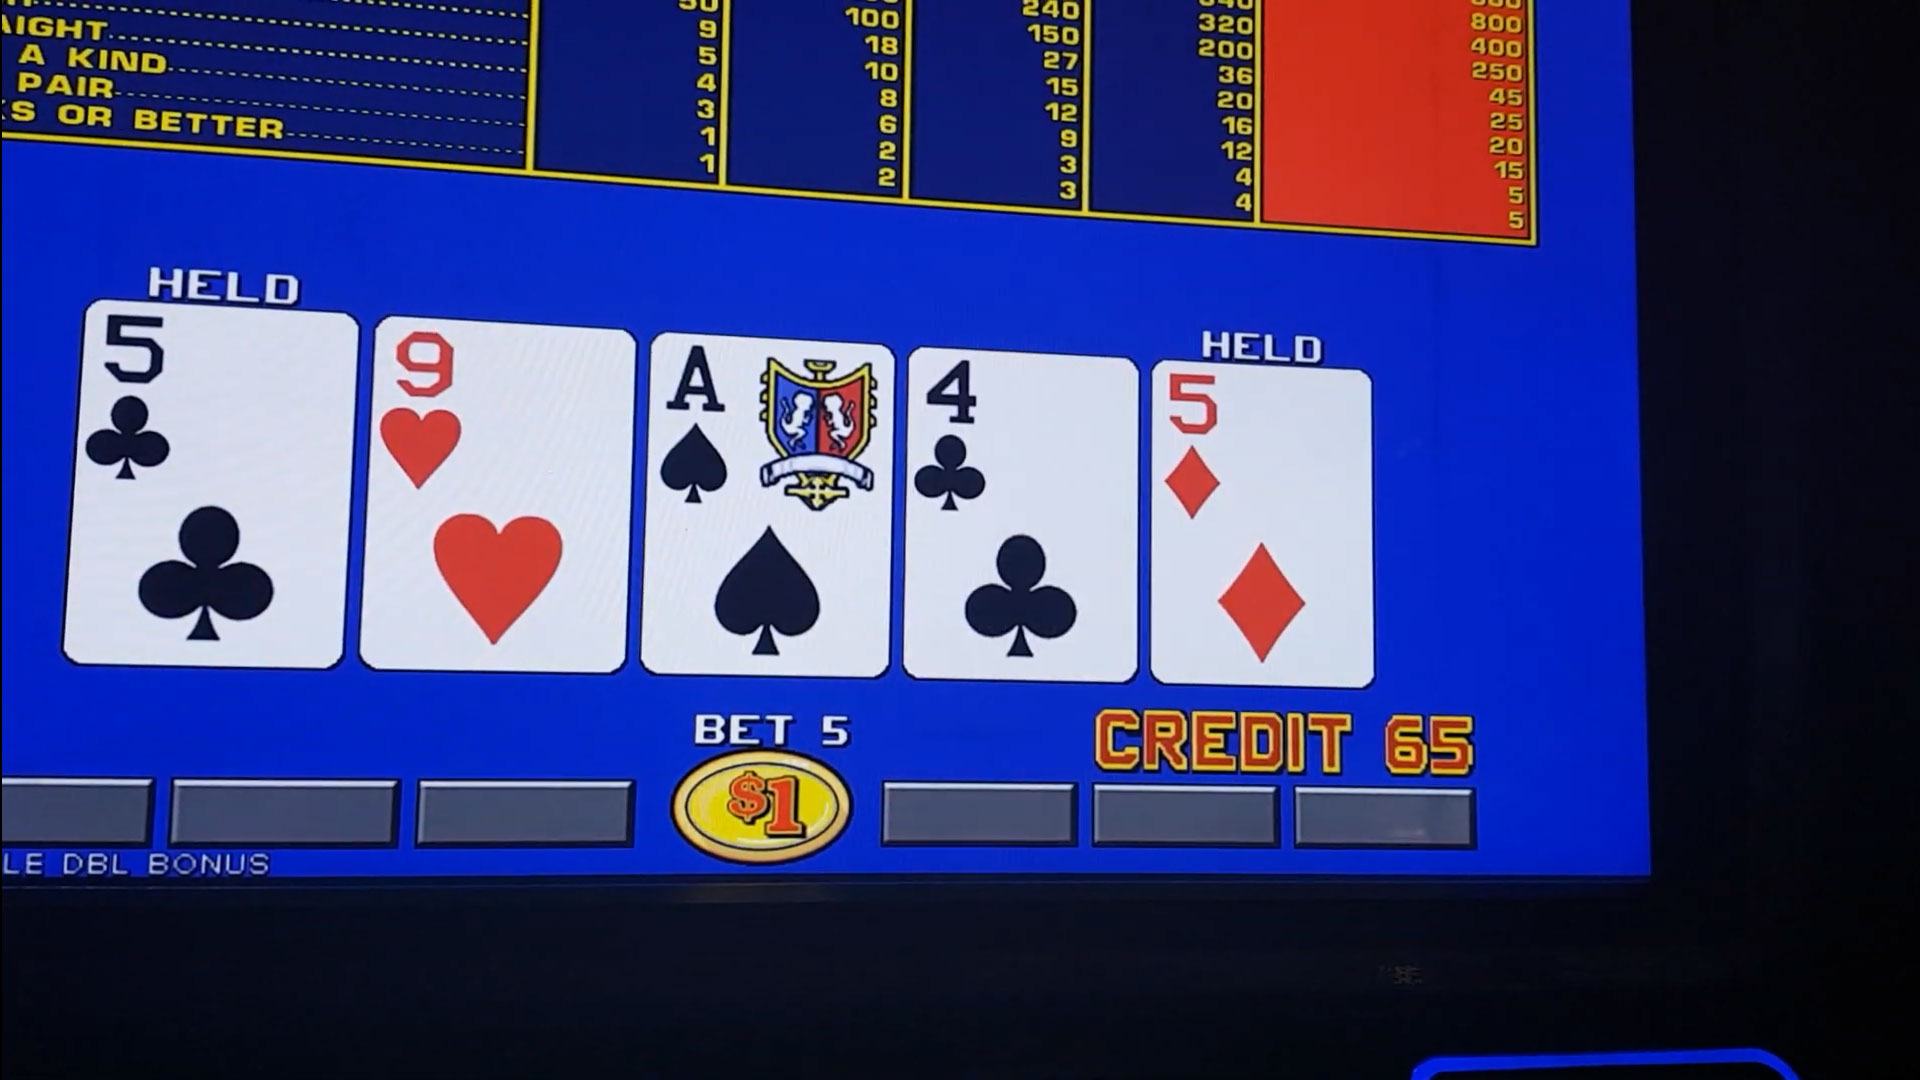C4: (910, 356, 1135, 524)
C5: (82, 315, 343, 491)
D5: (1155, 369, 1365, 533)
H9: (378, 336, 629, 502)
SA: (651, 349, 887, 517)
